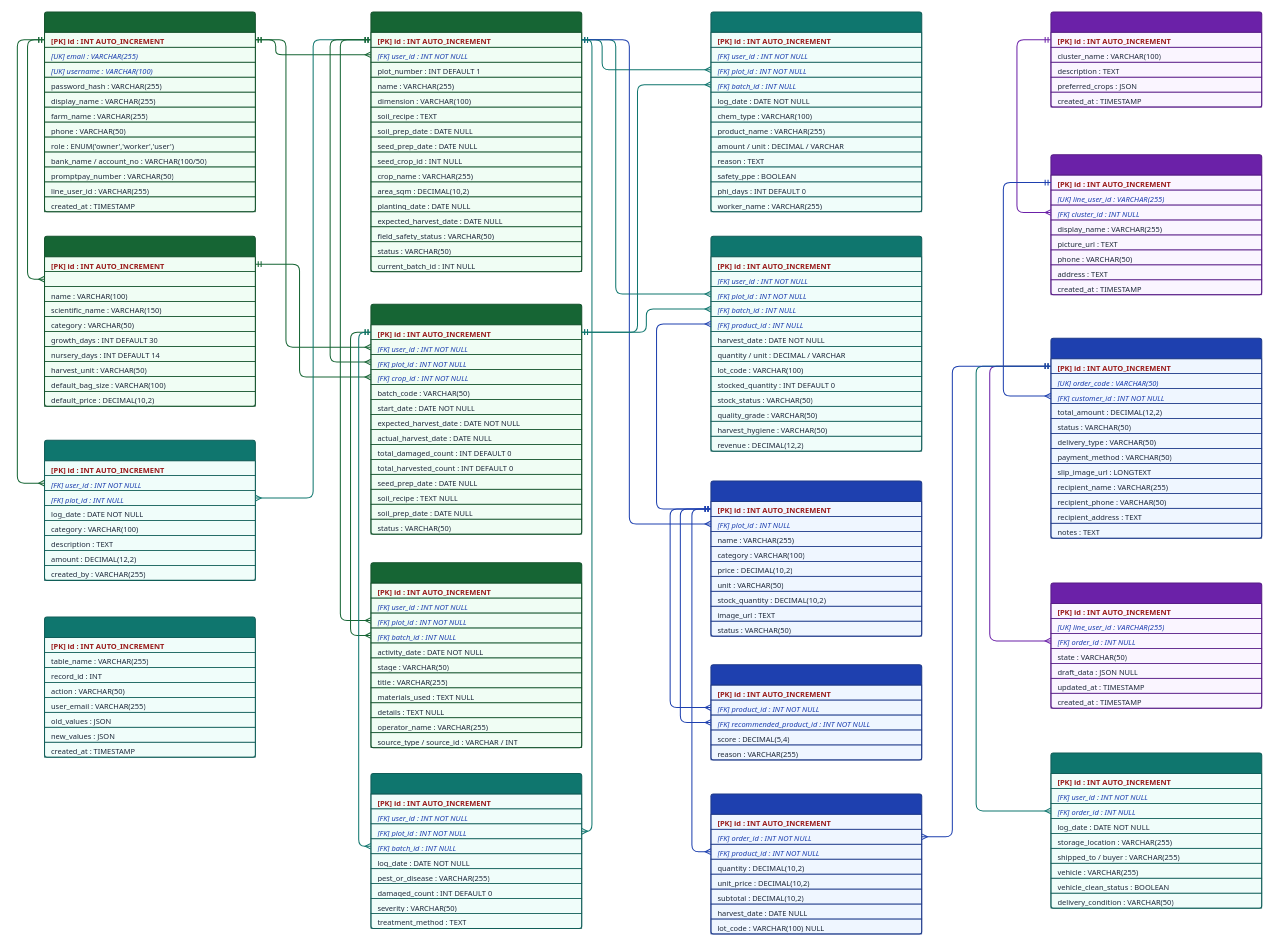
Image size: 1274x948. Some labels were removed from this diagram. Here are the shapes that lost their labels. From the top down, the box of each, then its label:
(1050, 11, 1262, 107): 11. customer_clusters (กลุ่มลูกค้า K-Means)
(44, 11, 256, 212): 1. users (ผู้ใช้งานระบบฟาร์ม)
(710, 11, 922, 212): 6. chemical_logs (ปุ๋ย/สารเคมี & PHI)
(370, 11, 582, 272): 3. plots (แปลงปลูกและแคร่ปลูก)
(1050, 154, 1262, 295): 10. customers (ข้อมูลลูกค้าสมาชิก LINE)
(44, 271, 255, 287): [FK] user_id : INT NULL
(44, 235, 256, 407): 2. crops (คลังข้อมูลชนิดผัก)
(710, 235, 922, 451): 8. harvest_logs (บันทึกเก็บเกี่ยว & Lot)
(370, 303, 582, 534): 4. planting_batches (รอบการปลูกพืช)
(1050, 337, 1262, 538): 12. orders (คำสั่งซื้อสินค้าออนไลน์)
(44, 439, 256, 581): 17. cost_logs (บัญชีต้นทุนการเกษตร)
(710, 480, 922, 636): 9. products (สินค้าและสต็อกพร้อมขาย)
(370, 562, 582, 748): 5. crop_activities (กิจกรรมในแปลง)
(1050, 582, 1262, 708): 15. line_chat_sessions (เซสชันแชท LINE)
(44, 616, 256, 757): 18. audit_logs (ประวัติแก้ไขข้อมูล)
(710, 664, 922, 760): 14. product_recommendations (แนะนำคู่กัน)
(1050, 752, 1262, 908): 16. storage_logs (การจัดเก็บและขนส่ง)
(370, 773, 582, 929): 7. pest_logs (สำรวจโรคและแมลง)
(710, 793, 922, 934): 13. order_items (รายการสินค้าในออเดอร์)
